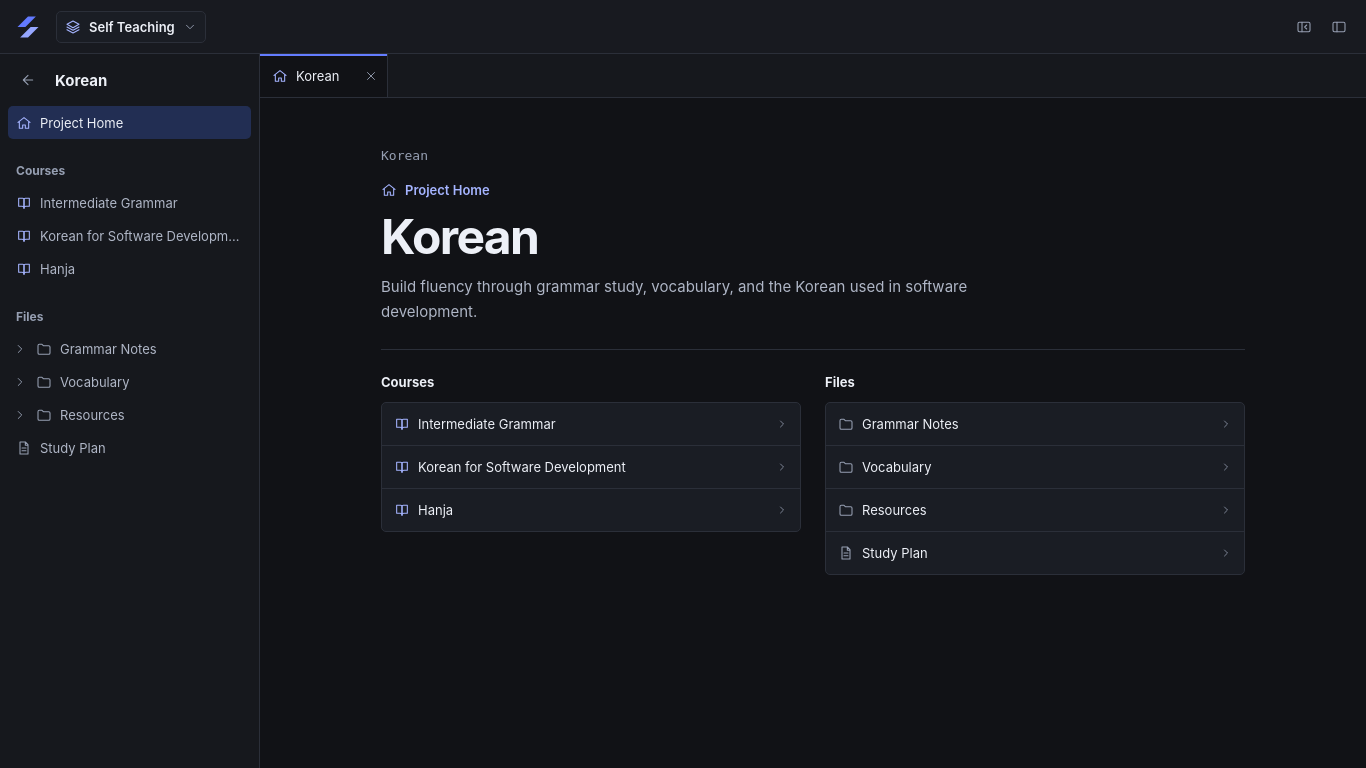
Test: keeps the active document and its tabs when the sidebar changes projects
Click the 1st button "Hanja". click: (130, 268)
box: x1=8 y1=252 x2=251 y2=285
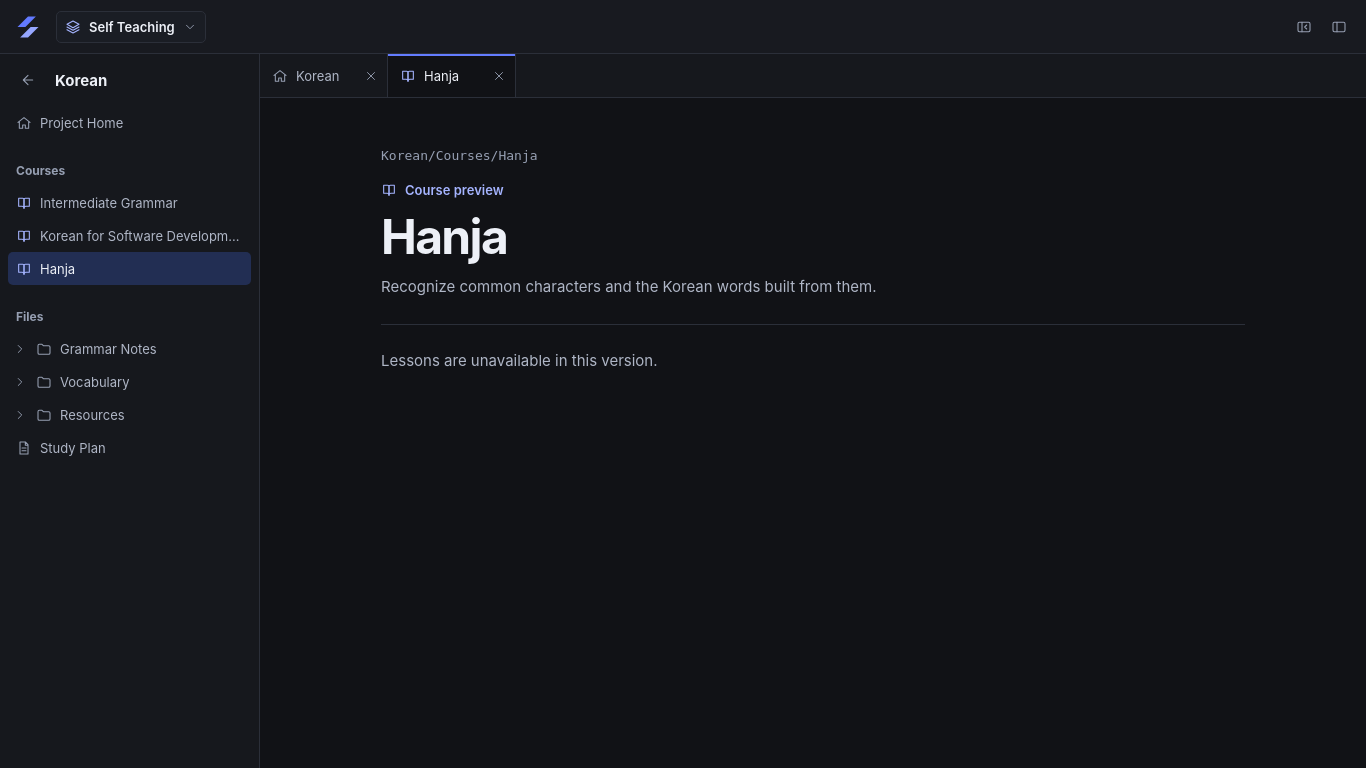
Click the button named "Back to projects". click: (28, 80)
box: x1=12 y1=64 x2=43 y2=96
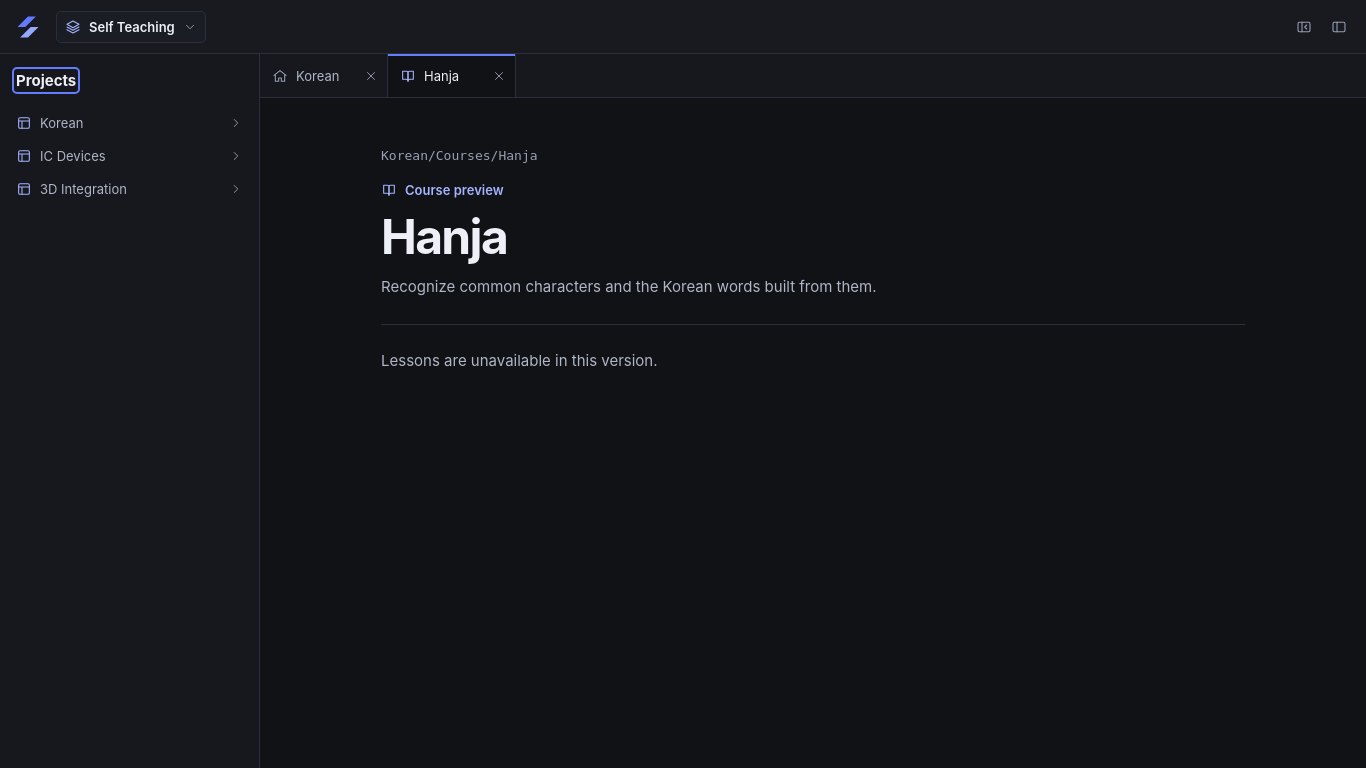
Expected: the button "Korean" is shown, x1=8 y1=106 x2=251 y2=139
Expected: the heading "Hanja" is shown, x1=381 y1=206 x2=507 y2=266
Expected: the button "3D Integration" is shown, x1=8 y1=172 x2=251 y2=205
Click the button "IC Devices". click: (130, 156)
box: x1=8 y1=139 x2=251 y2=172
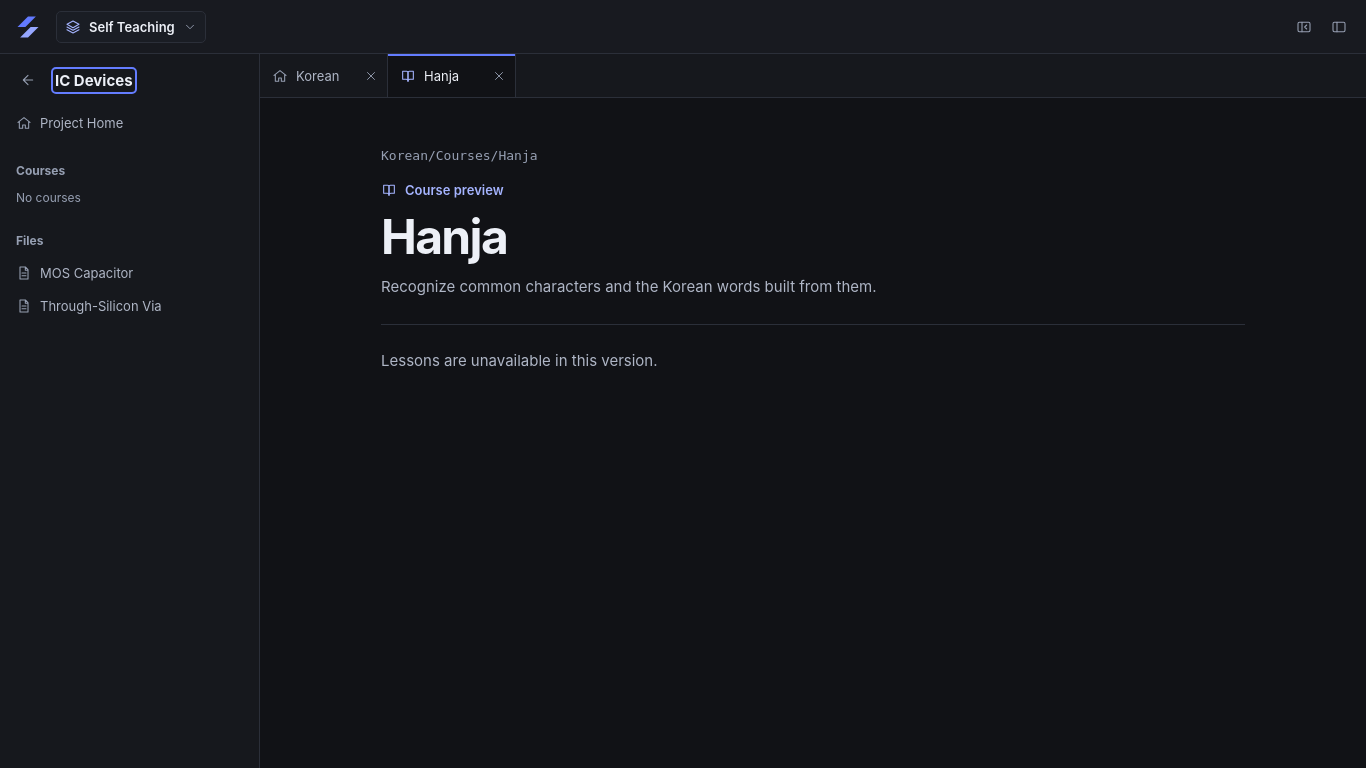
Expected: the tab "Korean" is shown, x1=260 y1=54 x2=359 y2=97
Expected: the heading "Hanja" is shown, x1=381 y1=206 x2=507 y2=266
Expected: the text "Korean/Courses/Hanja" is shown, x1=381 y1=148 x2=538 y2=163
Click the button "Project Home". click: (130, 122)
box: x1=8 y1=106 x2=251 y2=139
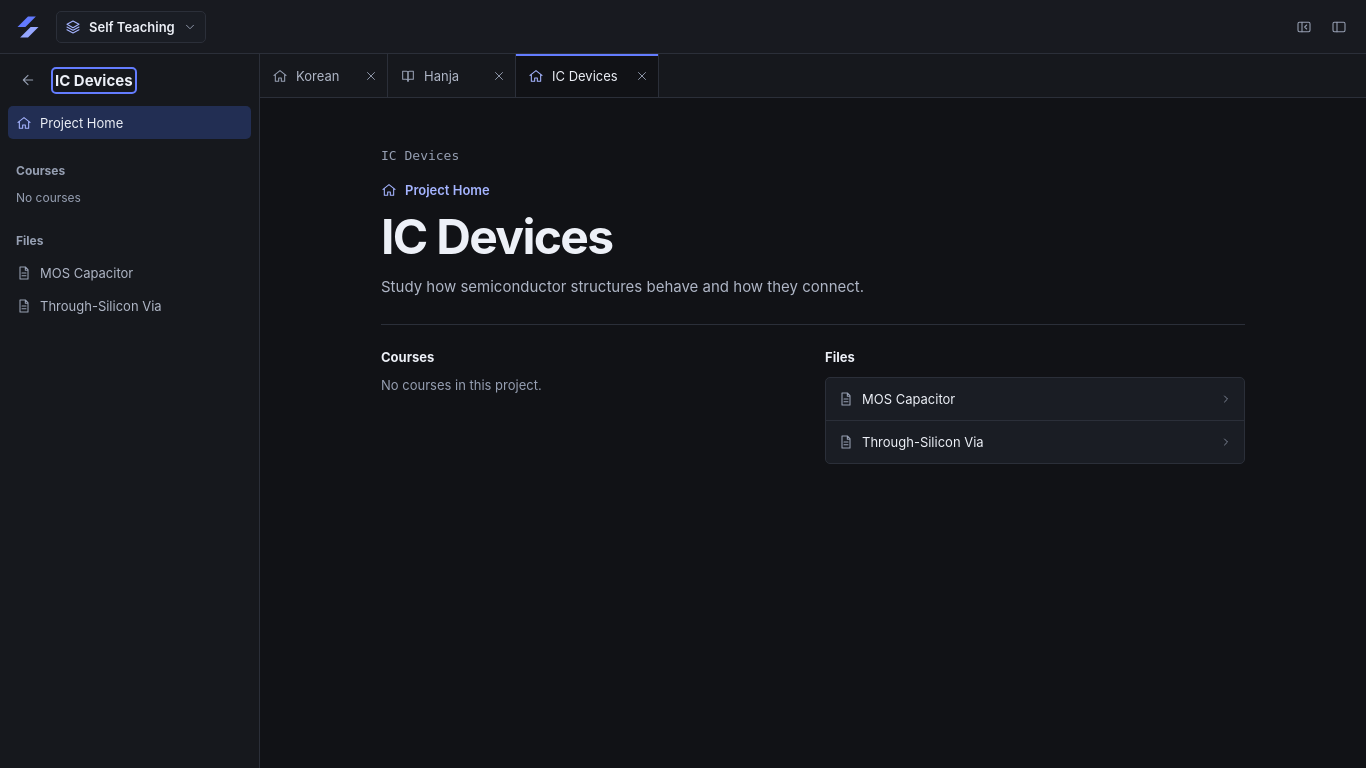
Expected: the 2nd heading "IC Devices" is shown, x1=381 y1=206 x2=612 y2=266
Click the tab "Hanja". click: (438, 76)
box: x1=388 y1=54 x2=487 y2=97
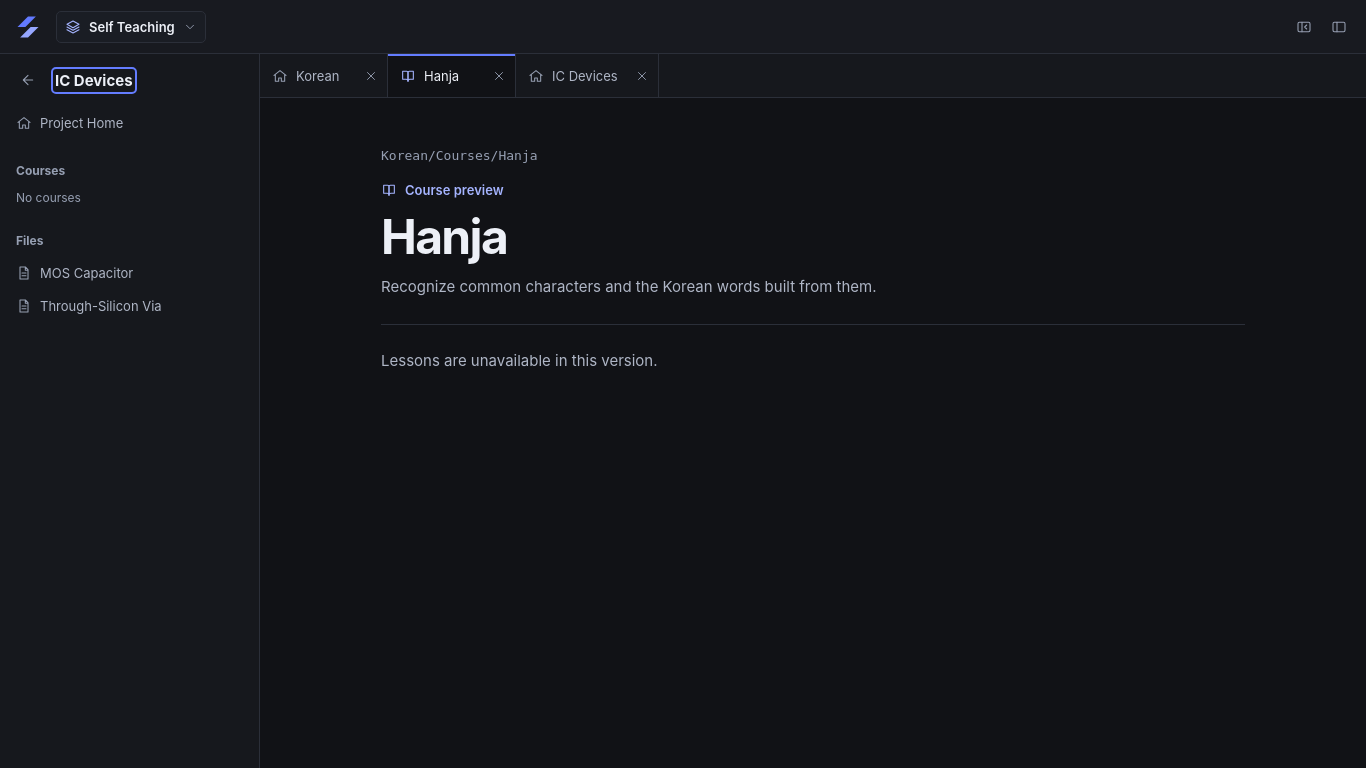
Expected: the heading "IC Devices" is shown, x1=51 y1=66 x2=137 y2=94
Expected: the heading "Hanja" is shown, x1=381 y1=206 x2=507 y2=266
